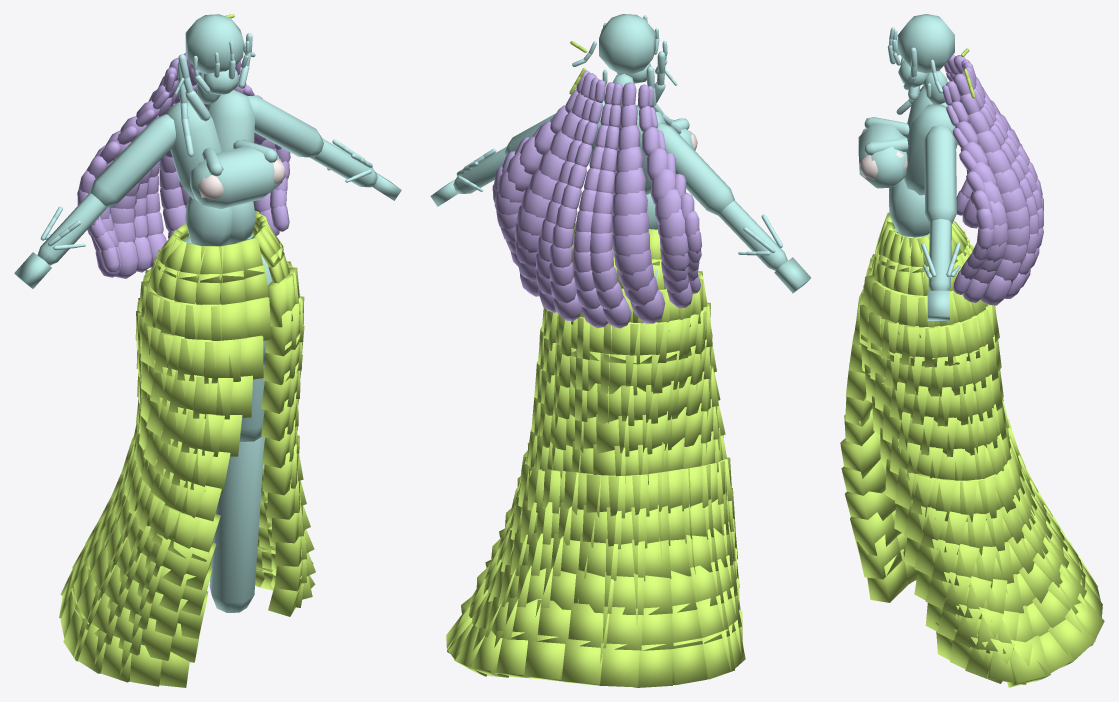
Rendered from Eden_RigidBodyWorld.fbx.
The picture shows the model from 3 angles, left to right: view 1: azimuth 30°, elevation 25°; view 2: azimuth 150°, elevation 25°; view 3: azimuth 270°, elevation 25°; orthographic projection. The views are drawn at different scales.
Parts seen in each view (by area): view 1: 00G_左ひざ, 003_右腕, 00W_上半身2, 00A_頭_1, 006_左腕, 001_上半身2_1, 002_上半身2_2, 000_上半身, 004_右ひじ, 02J_qz_3_1, 007_左ひじ, 020_qz_2_1 (+72 smaller); view 2: 00A_頭_1, 003_右腕, 004_右ひじ, 080_qz_13_8, 07Z_qz_13_7, 081_qz_13_9, 07Y_qz_13_6, 07G_qz_12_7, 07H_qz_12_8, 07X_qz_13_5, 06X_qz_11_7, 06Y_qz_11_8 (+81 smaller); view 3: 006_左腕, 00A_頭_1, 00W_上半身2, 002_上半身2_2, 00J_M-上半身, 007_左ひじ, 06Q_qz_11_0, 086_qz_13_14, 079_qz_12_0, 07S_qz_13_0, 055_qz_8_0, 084_qz_13_12 (+88 smaller).
Part boxes in pixels (x1=…): 00G_左ひざ: x1=209, y1=436, x2=264, y2=612; 003_右腕: x1=89, y1=114, x2=175, y2=207; 00W_上半身2: x1=190, y1=145, x2=282, y2=208; 00A_頭_1: x1=185, y1=14, x2=243, y2=73; 006_左腕: x1=247, y1=96, x2=323, y2=157; 001_上半身2_1: x1=166, y1=101, x2=221, y2=198; 002_上半身2_2: x1=207, y1=89, x2=254, y2=151; 000_上半身: x1=185, y1=196, x2=232, y2=245; 004_右ひじ: x1=37, y1=193, x2=106, y2=265; 02J_qz_3_1: x1=204, y1=339, x2=241, y2=383; 007_左ひじ: x1=309, y1=138, x2=377, y2=187; 020_qz_2_1: x1=211, y1=302, x2=247, y2=340; 00A_頭_1: x1=599, y1=14, x2=655, y2=73; 003_右腕: x1=657, y1=122, x2=734, y2=215; 004_右ひじ: x1=718, y1=200, x2=787, y2=270; 080_qz_13_8: x1=561, y1=639, x2=602, y2=685; 07Z_qz_13_7: x1=596, y1=643, x2=639, y2=687; 081_qz_13_9: x1=523, y1=634, x2=565, y2=681; 07Y_qz_13_6: x1=632, y1=644, x2=672, y2=687; 07G_qz_12_7: x1=603, y1=606, x2=642, y2=650; 07H_qz_12_8: x1=568, y1=603, x2=609, y2=648; 07X_qz_13_5: x1=672, y1=638, x2=707, y2=684; 06X_qz_11_7: x1=604, y1=572, x2=643, y2=615; 06Y_qz_11_8: x1=573, y1=569, x2=614, y2=613; 006_左腕: x1=924, y1=125, x2=956, y2=223; 00A_頭_1: x1=897, y1=14, x2=954, y2=73; 00W_上半身2: x1=858, y1=123, x2=907, y2=188; 002_上半身2_2: x1=903, y1=104, x2=957, y2=195; 00J_M-上半身: x1=889, y1=179, x2=929, y2=237; 007_左ひじ: x1=928, y1=219, x2=951, y2=290; 06Q_qz_11_0: x1=850, y1=512, x2=897, y2=555; 086_qz_13_14: x1=1007, y1=635, x2=1050, y2=687; 079_qz_12_0: x1=857, y1=534, x2=902, y2=579; 07S_qz_13_0: x1=867, y1=549, x2=908, y2=602; 055_qz_8_0: x1=840, y1=432, x2=880, y2=478; 084_qz_13_12: x1=1047, y1=614, x2=1095, y2=667.
Size of the model in its own units: 105 by 66.35 by 171.
